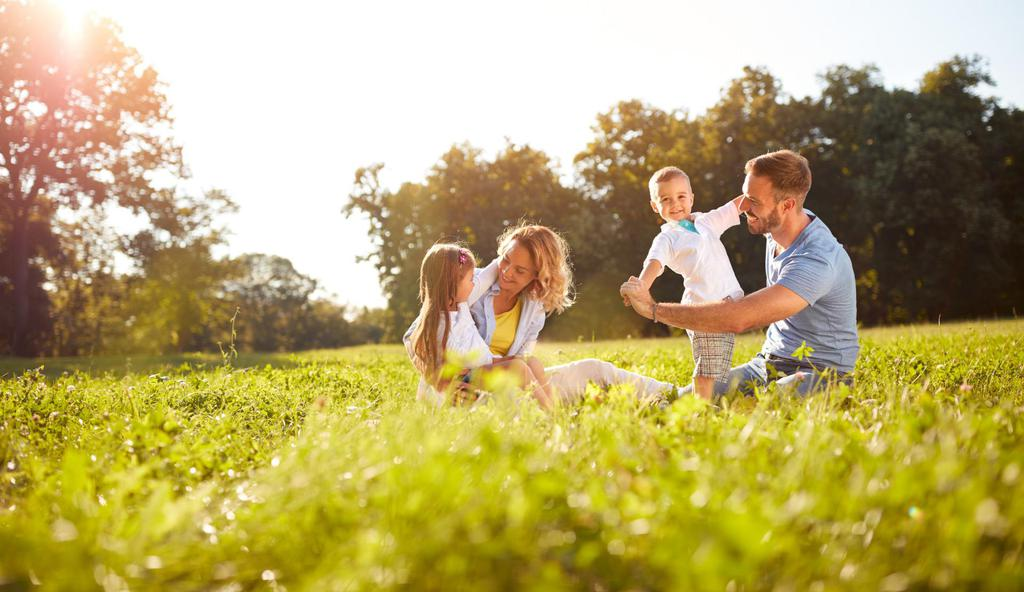child: (635, 153, 742, 404), (407, 243, 515, 417)
